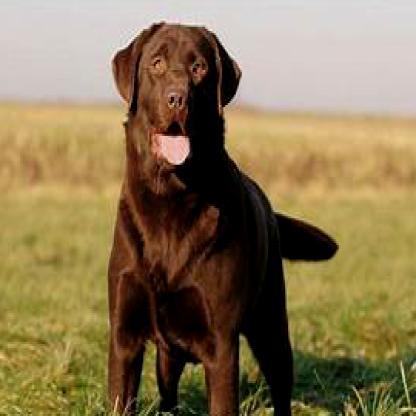dog: (107, 21, 340, 414)
